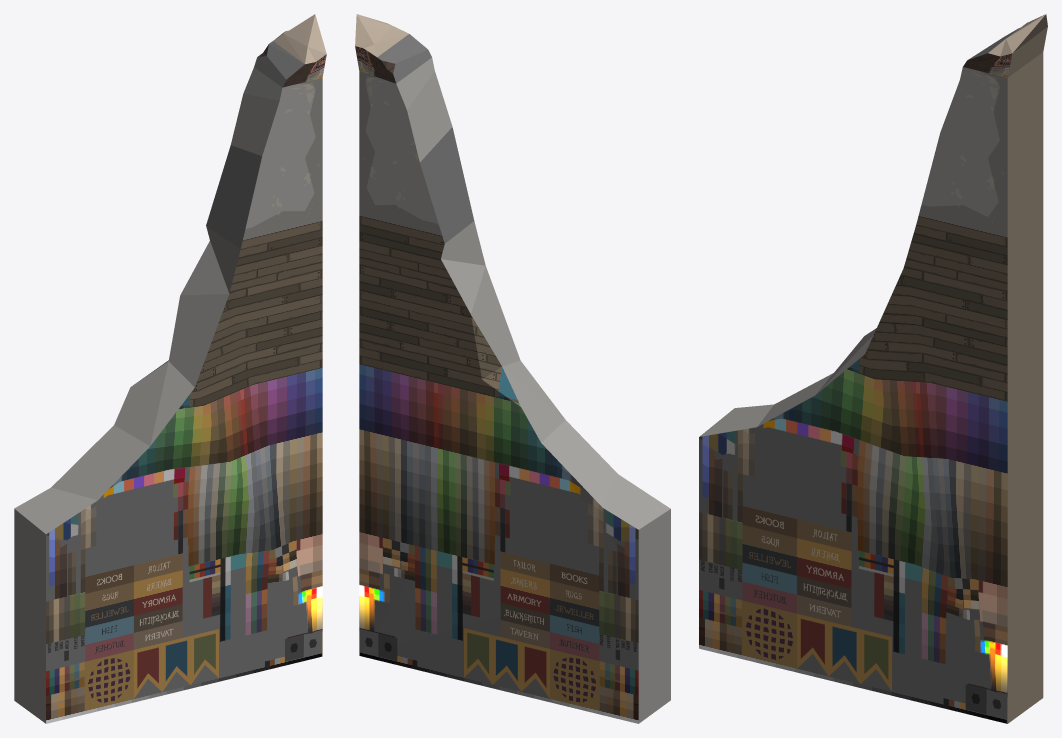
File: castle_ruin_bottom.gltf
3 renders of one model, left to right at view 1: azimuth 30°, elevation 25°; view 2: azimuth 150°, elevation 25°; view 3: azimuth 330°, elevation 25°, orthographic. The views are drawn at different scales.
Visible parts, largest first — view 1: castle_ruin_bottom; view 2: castle_ruin_bottom; view 3: castle_ruin_bottom.
Boxes of the visible parts, left/top/right/bottom form: castle_ruin_bottom: left=14, top=14, right=326, bottom=723; castle_ruin_bottom: left=355, top=14, right=670, bottom=723; castle_ruin_bottom: left=699, top=14, right=1047, bottom=723.
Size of the model in its own units: 2.62 by 5.39 by 0.5087.
1 material, 1 textured.
